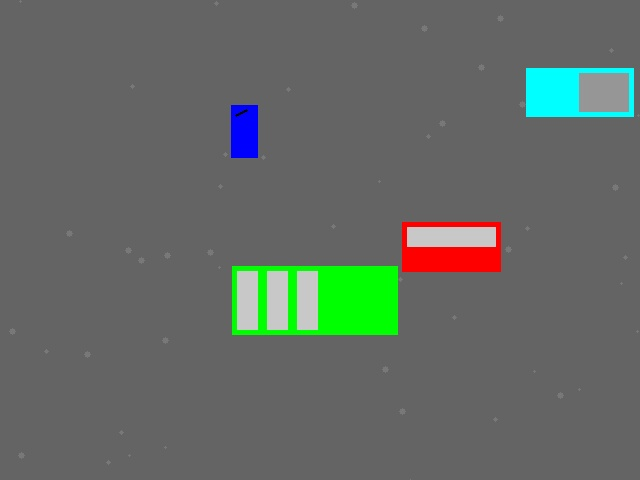bus: (232, 266, 397, 334)
car: (402, 222, 500, 271)
motorcycle: (231, 105, 257, 157)
truck: (526, 68, 633, 116)
